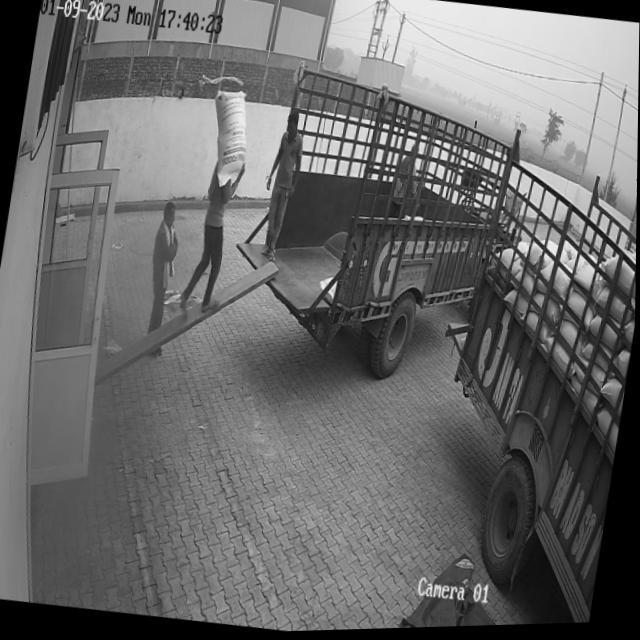sack: (202, 91, 254, 189)
